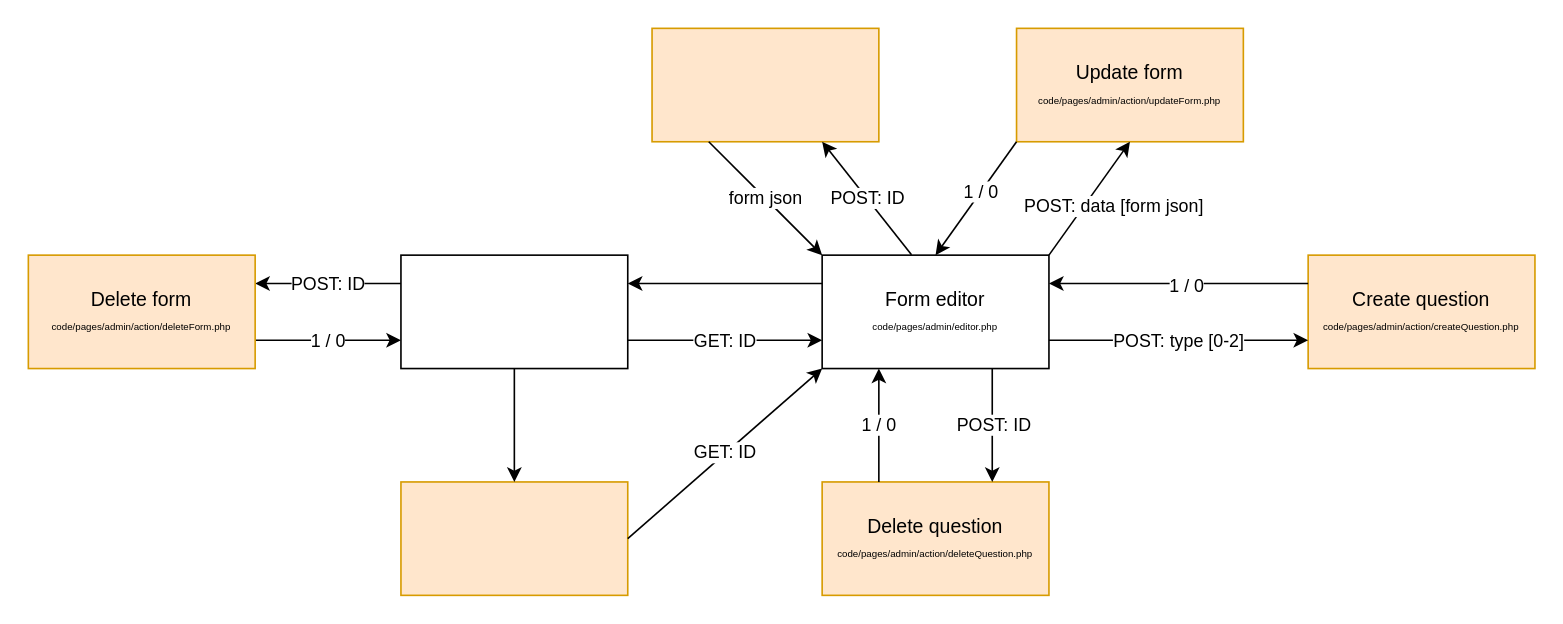
Image size: 1563x624. Some labels were removed from this diagram. The shapes that lost their labels are listed below. From the top down, each one's centre as x and y in pixels, then its label:
the point at 764,84: Read form code/pages/admin/action/readForm.php
the point at 513,311: Dashboard code/pages/admin/dashboard.php
the point at 513,537: Create form code/pages/admin/action/createForm.php
